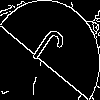J: (25, 25, 67, 77)
